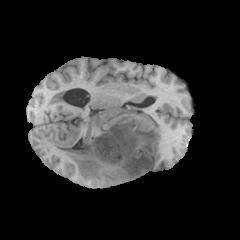glioma: (54, 105, 161, 186)
